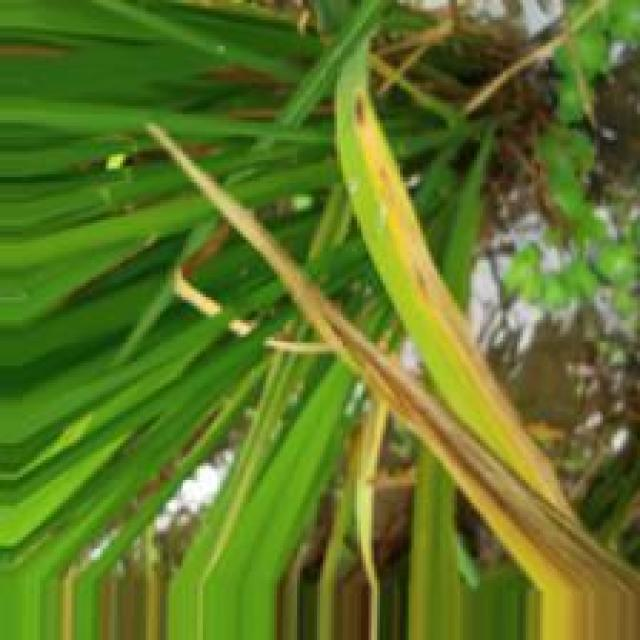Leaf_Scald: (350, 87, 573, 517), (324, 323, 565, 565)
